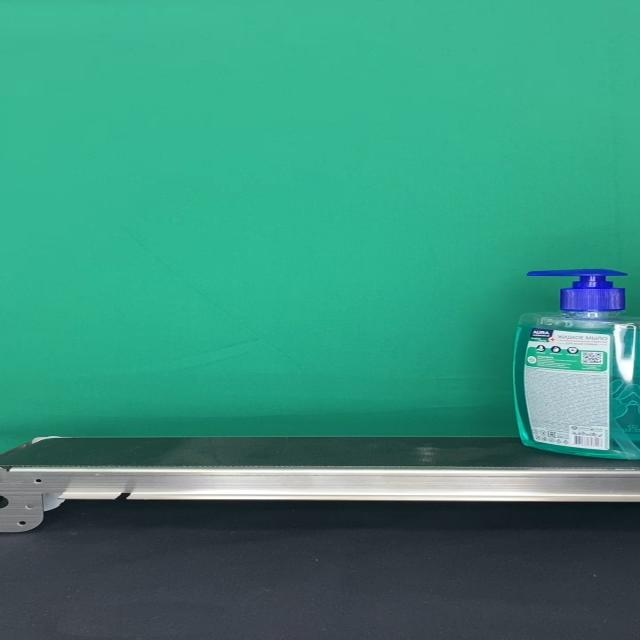Bottle: (512, 269, 640, 460)
Cap: (526, 270, 627, 312)
